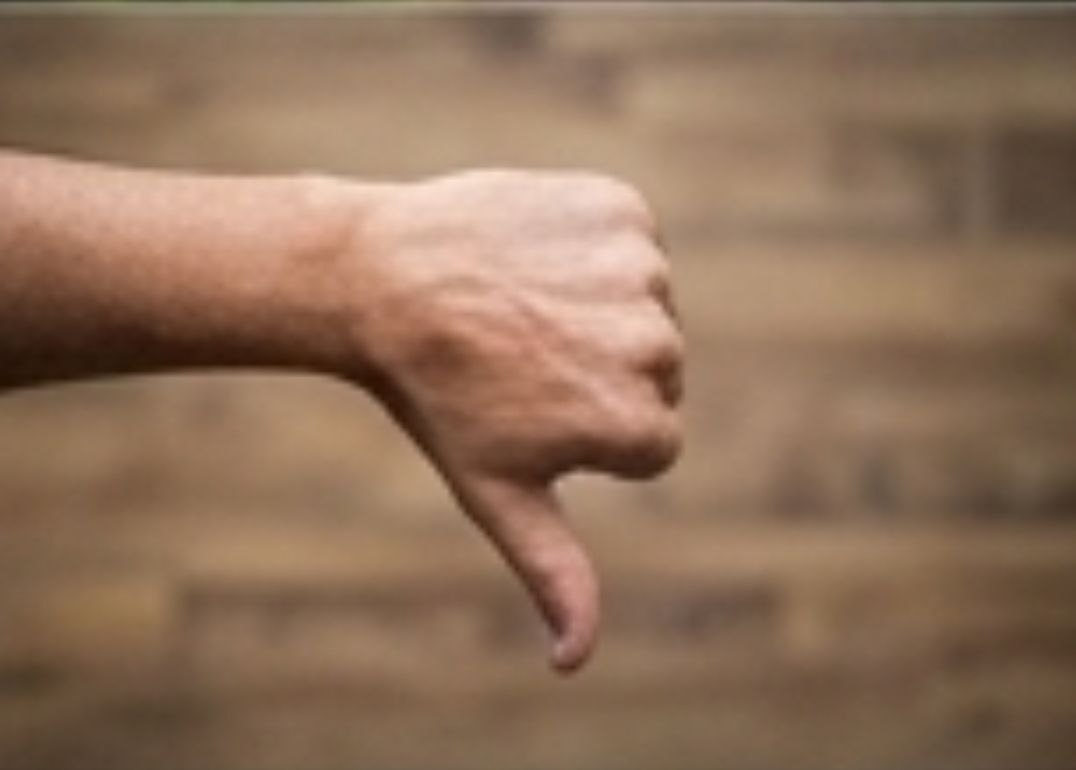Thumbs down: (328, 149, 735, 702)
